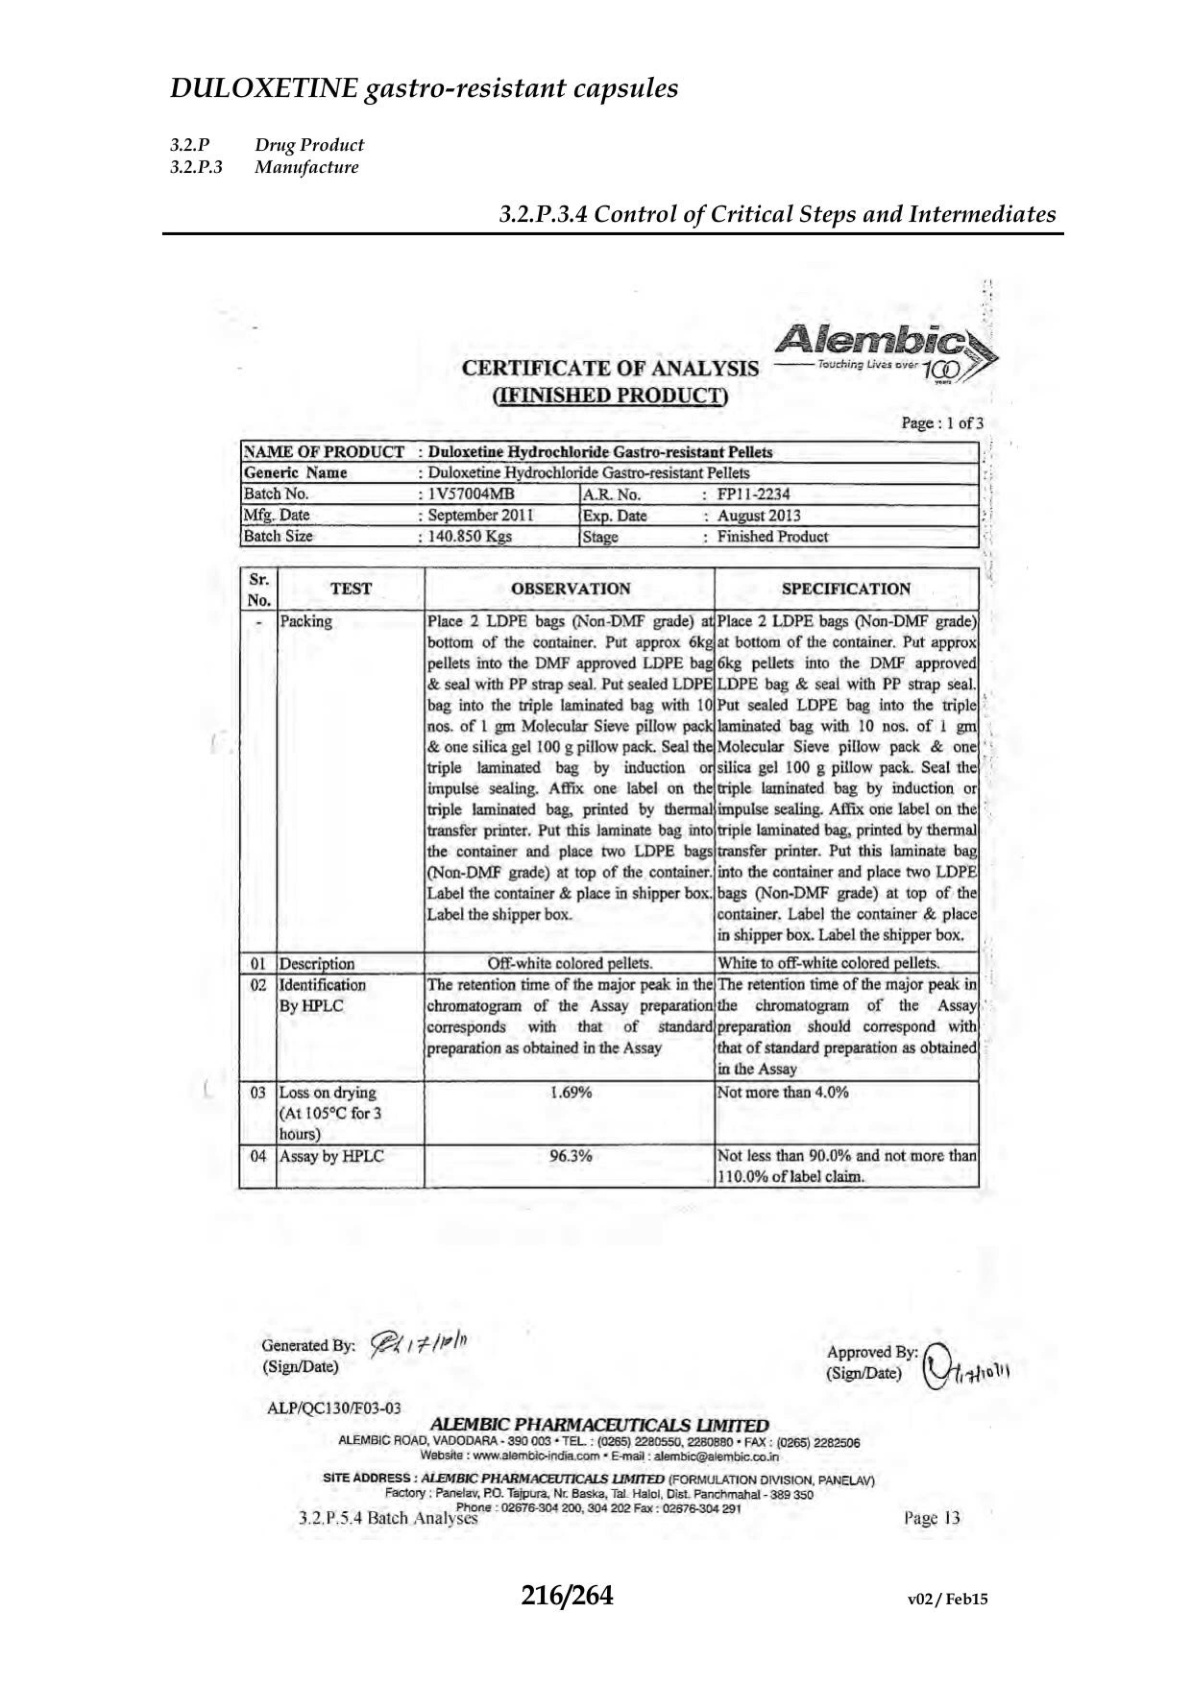full_lined: (237, 563, 982, 1190)
merged_cells: (237, 436, 982, 550)
